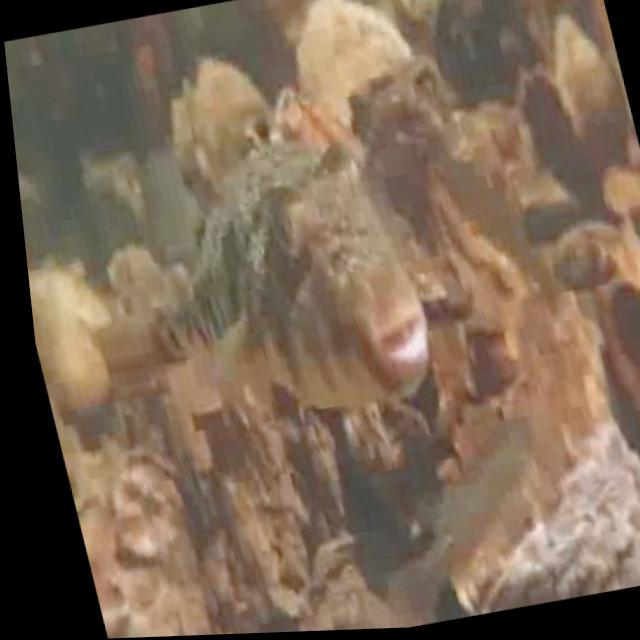Oyster-Closed: (429, 165, 531, 312), (305, 532, 433, 631), (116, 448, 187, 561)
Oyster-Indeterminate: (484, 426, 640, 612), (526, 220, 640, 467), (297, 0, 405, 117), (555, 19, 633, 162), (186, 64, 263, 197), (360, 88, 455, 178), (35, 312, 111, 409), (271, 89, 364, 162), (31, 268, 111, 329), (170, 95, 208, 210)
